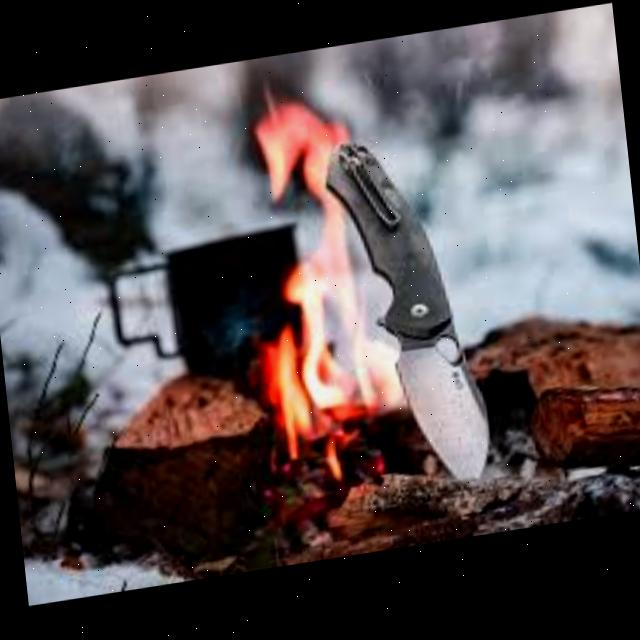Knife: (320, 123, 493, 503)
